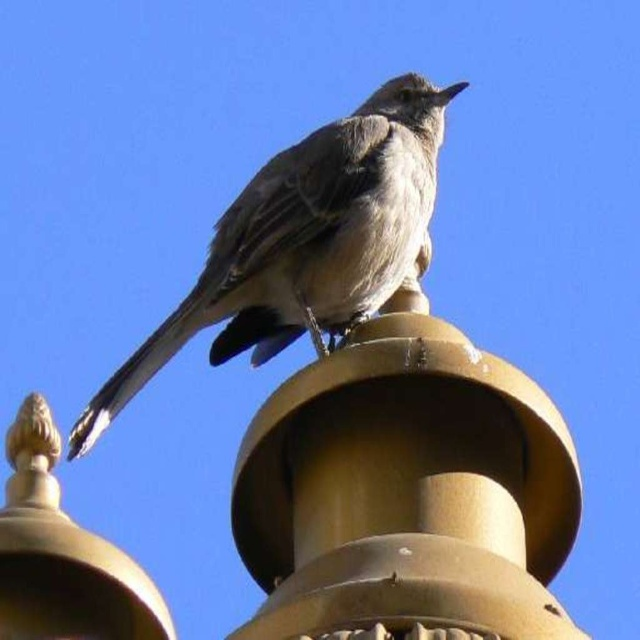Sparrow: (68, 68, 470, 459)
